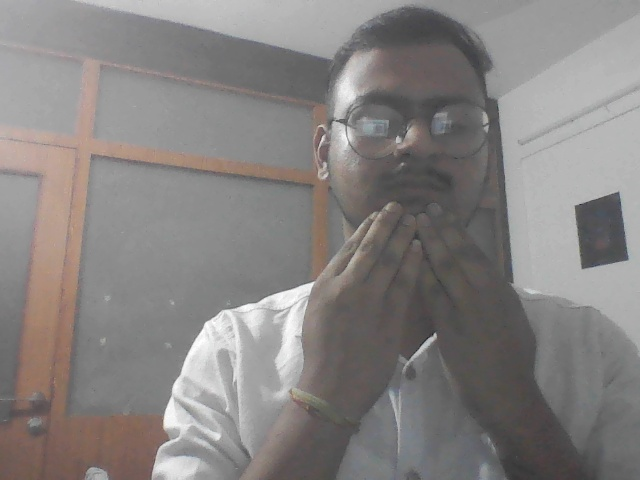ThankYou: (293, 199, 551, 419)
